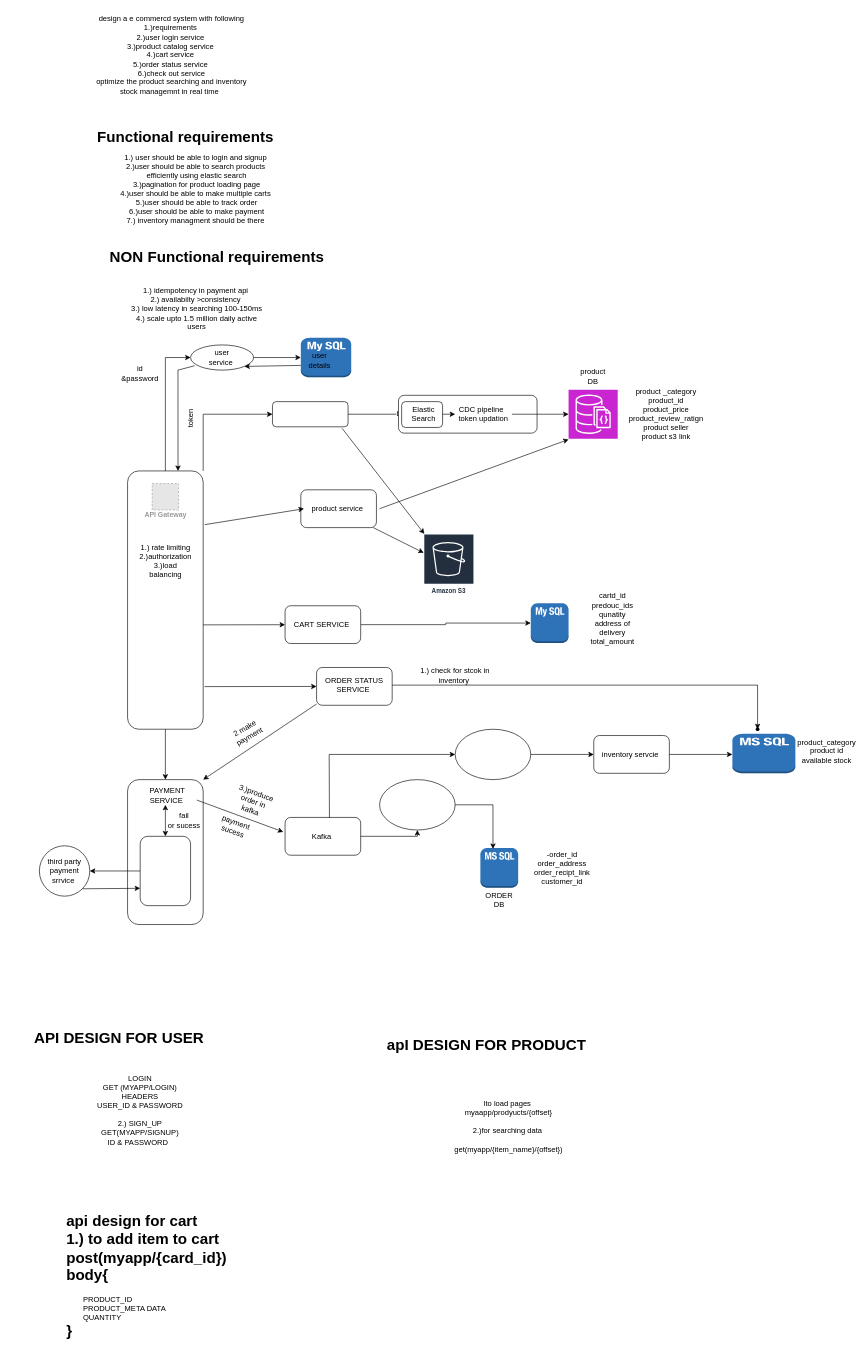
The diagram is 867 pixels wide and 1359 high, and some of its shapes have lost their labels. Grey dashed boxes stand in for pictures. Here are the shapes that lost their labels. From the top down, the box of each, then its label:
(272, 401, 348, 427): searching service
(455, 729, 531, 780): consumer2 for inventory update
(732, 733, 795, 773): inventory db
(379, 779, 455, 830): consumer 1 for order data base
(140, 836, 191, 906): PAYMENT gateway
